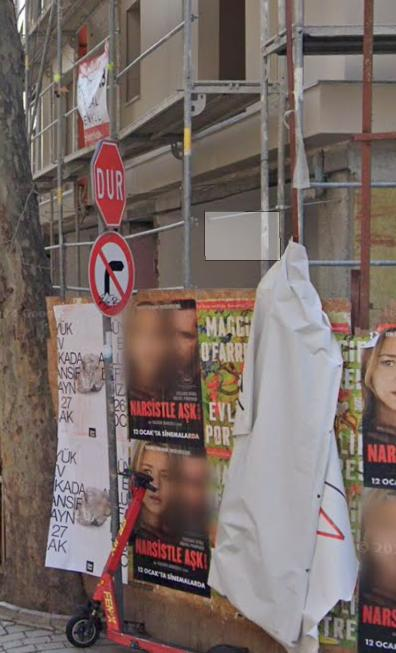rightturnsareforbidden: (89, 232, 133, 311)
stop: (94, 138, 126, 227)
